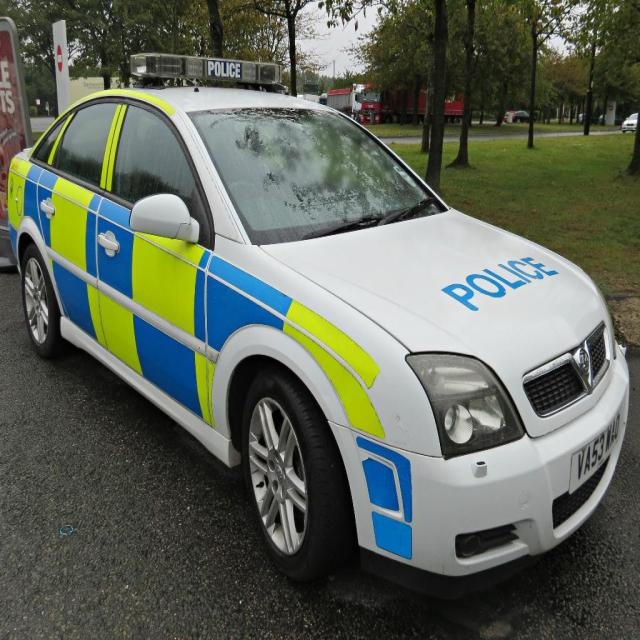car: (5, 73, 635, 589)
